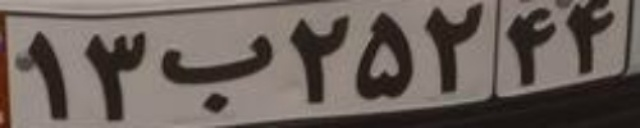1: (25, 29, 70, 119)
2: (287, 14, 348, 103), (425, 2, 480, 93)
3: (85, 27, 143, 121)
4: (507, 7, 556, 85), (566, 0, 615, 74)
5: (353, 11, 413, 99)
be: (159, 31, 273, 114)
